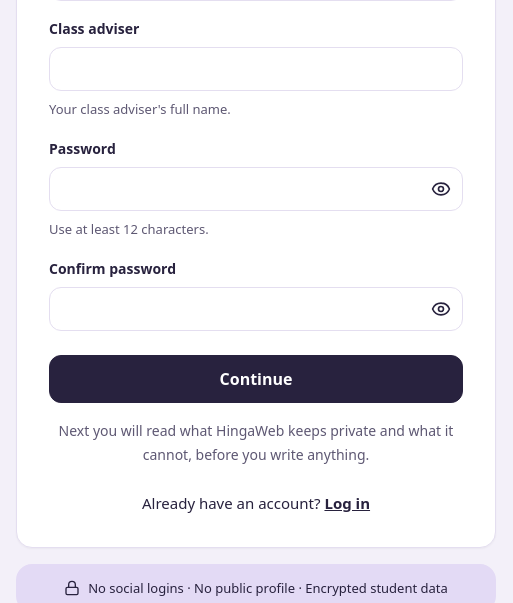
RegisterPage (Fig 8, 2.1.5.1.1, D-01) › blocks submission and explains each missing field
(page scrolled)
Click the button "Continue".
click(256, 379)  # box [49, 355, 463, 403]
(page scrolled)
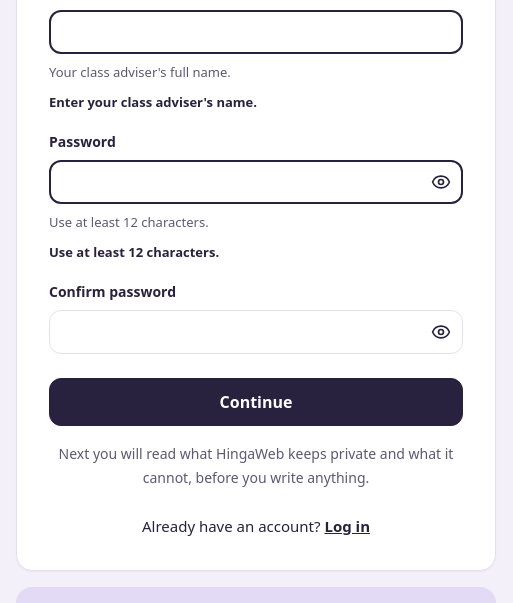
Check: the text "Use at least 12 characters." is shown, box [49, 243, 219, 261]
